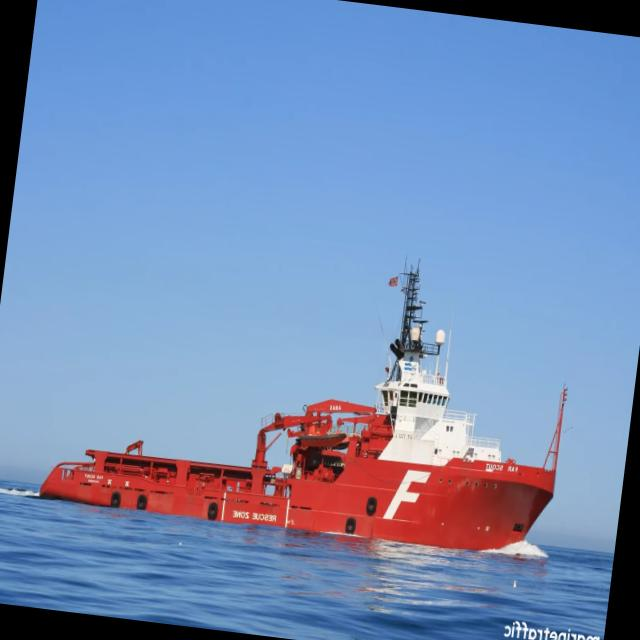Offshore: (40, 269, 566, 550)
